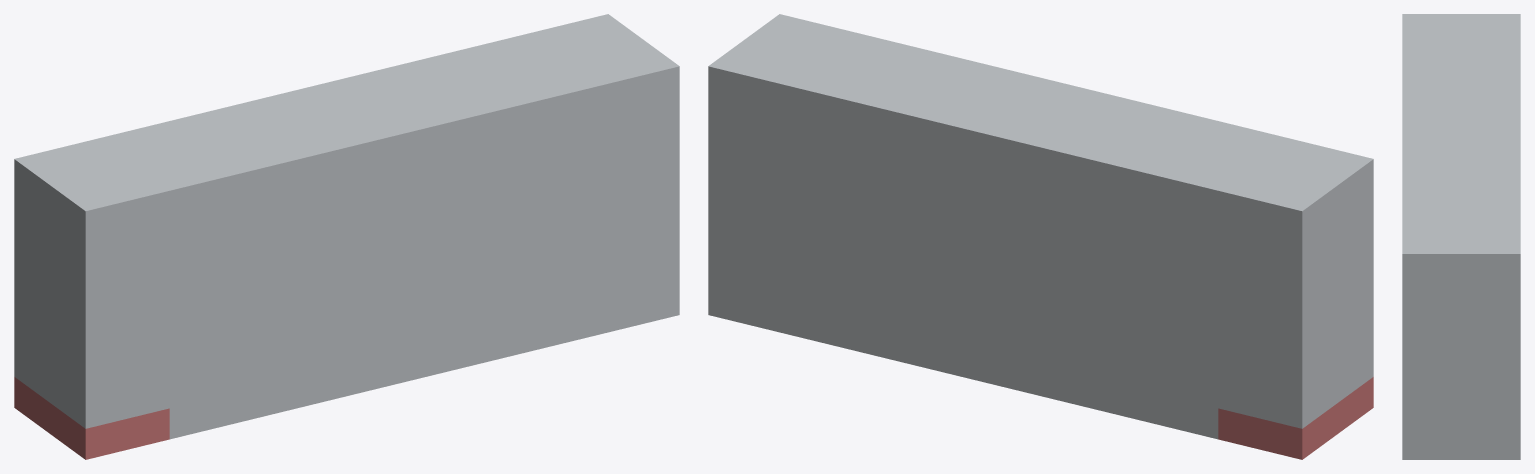
File: step_02.glb
3 views of the same model, side by side, from view 1: azimuth 30°, elevation 25°; view 2: azimuth 150°, elevation 25°; view 3: azimuth 270°, elevation 25° (orthographic). The views are drawn at different scales.
Parts seen in each view (by area): view 1: part__slotted bar (four arrangements), removed__slotted bar (four arrangements); view 2: part__slotted bar (four arrangements), removed__slotted bar (four arrangements); view 3: part__slotted bar (four arrangements).
Boxes of the visible parts, x1,y1,x2,y2 form: part__slotted bar (four arrangements): [14, 14, 679, 439]; removed__slotted bar (four arrangements): [14, 377, 169, 459]; part__slotted bar (four arrangements): [708, 14, 1373, 439]; removed__slotted bar (four arrangements): [1218, 377, 1373, 459]; part__slotted bar (four arrangements): [1402, 14, 1520, 459].
Size of the model in its own units: 120 by 48 by 25.
